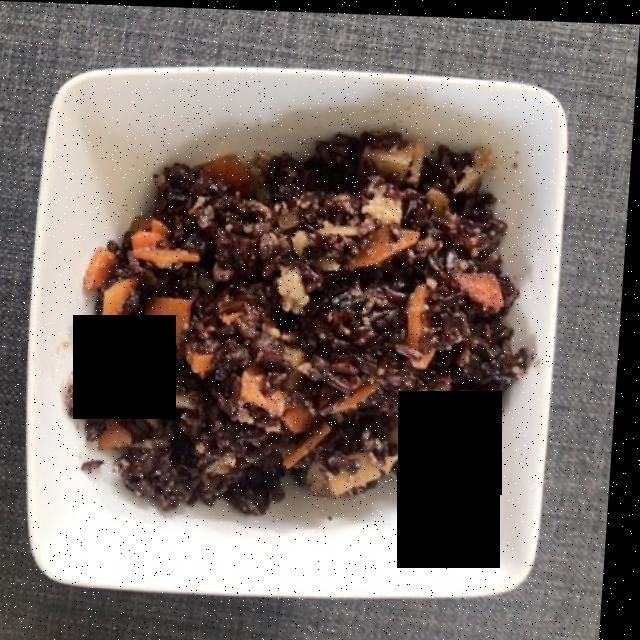mixed-vegetables: (70, 138, 481, 486)
